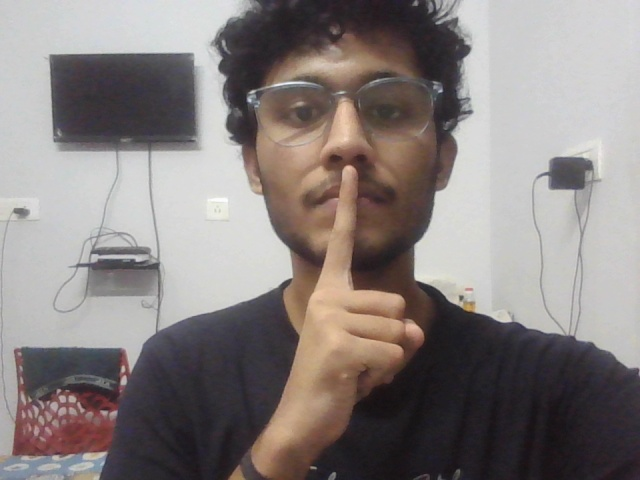Quiet: (254, 153, 450, 480)
